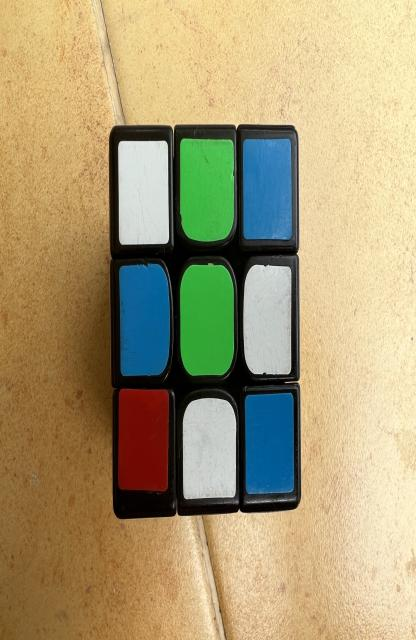Blue: (119, 263, 170, 377), (243, 138, 292, 240), (245, 393, 294, 495)
Green: (180, 263, 234, 377), (180, 138, 234, 242)
Red: (118, 388, 169, 492)
White: (183, 398, 236, 500), (243, 265, 292, 375), (118, 140, 169, 245)
